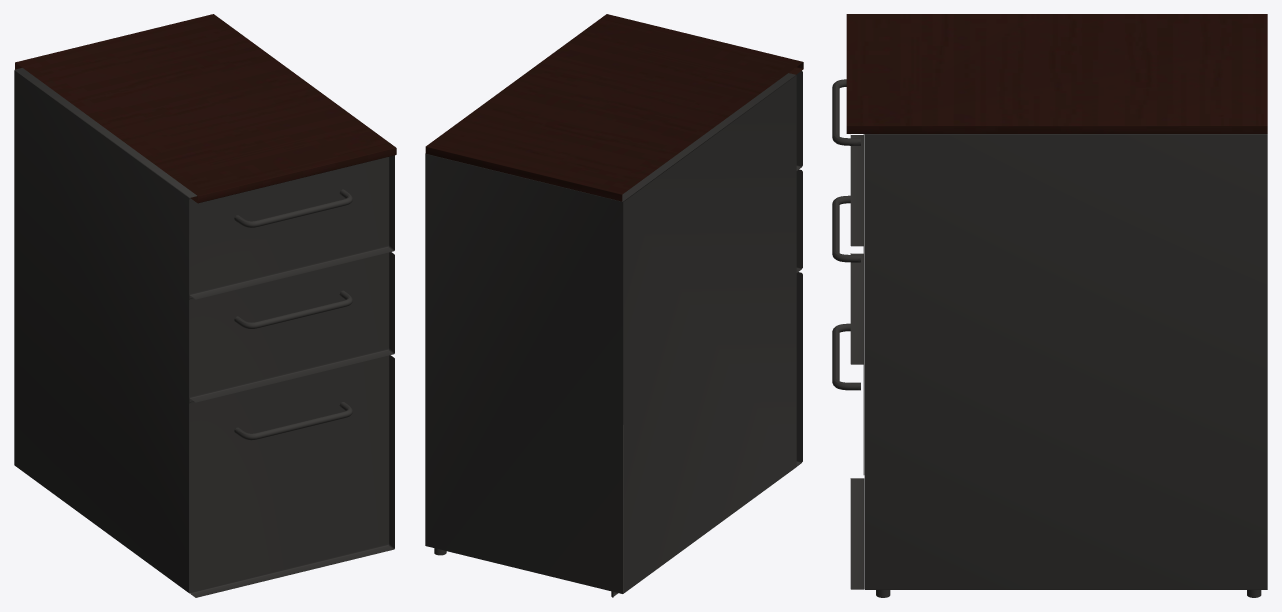
The model's file is part-laci.glb.
3 renders of one model, left to right at view 1: azimuth 30°, elevation 25°; view 2: azimuth 150°, elevation 25°; view 3: azimuth 270°, elevation 25°, orthographic. The views are drawn at different scales.
Visible parts, largest first — view 1: C-skp963C; view 2: C-skp963C; view 3: C-skp963C.
Boxes of the visible parts, x1,y1,x2,y2 form: C-skp963C: (14, 14, 396, 597); C-skp963C: (425, 14, 803, 597); C-skp963C: (832, 14, 1267, 597).
Bounding box in the file's own units: 0.3895 × 0.7652 × 0.6367.
2 materials, 1 textured.
